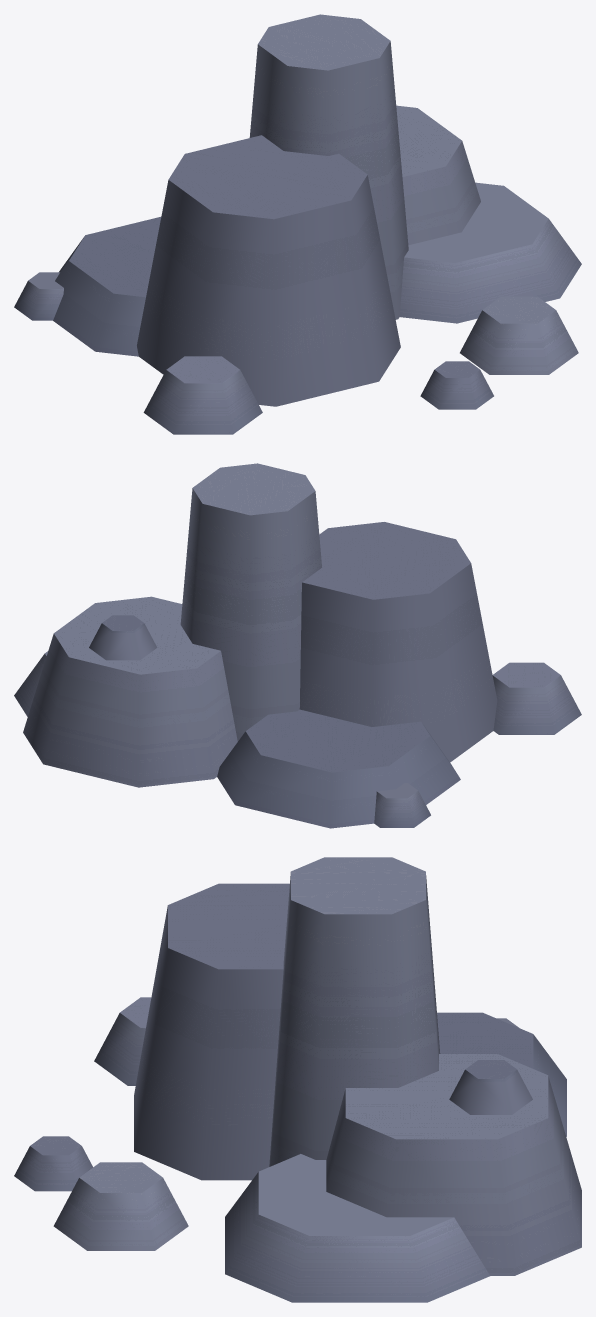
The model's file is stones_1.glb.
3 renders of one model, top to bottom at view 1: azimuth 30°, elevation 25°; view 2: azimuth 150°, elevation 25°; view 3: azimuth 270°, elevation 25°, orthographic. The views are drawn at different scales.
Visible parts, largest first — view 1: stones; view 2: stones; view 3: stones.
Boxes of the visible parts, box(x1,y1,x2,y2) form: stones: box(14, 14, 581, 434); stones: box(14, 463, 581, 828); stones: box(14, 857, 581, 1302).
Size of the model in its own units: 0.8924 by 0.4539 by 0.8045.
1 material, 1 textured.
